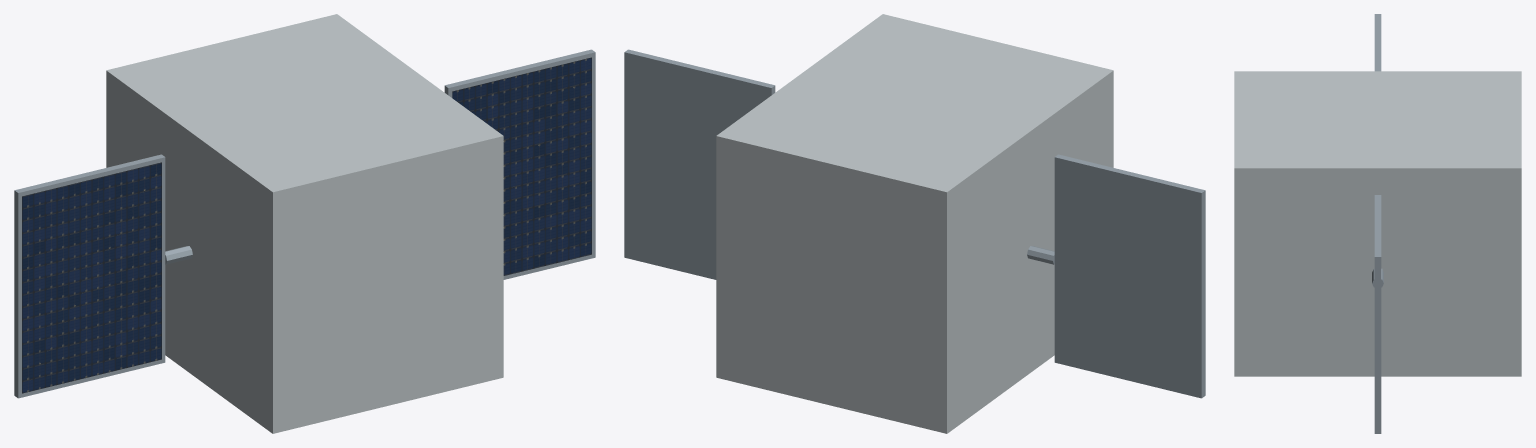
The model's file is ref-defiant-47502.glb.
The picture shows the model from 3 angles, left to right: view 1: azimuth 30°, elevation 25°; view 2: azimuth 150°, elevation 25°; view 3: azimuth 270°, elevation 25°; orthographic projection. The views are drawn at different scales.
Visible parts, largest first — view 1: Spacecraft body, Photovoltaic laminates (×2), Array frame (×2); view 2: Spacecraft body, Array frame (×2); view 3: Spacecraft body, Array frame (×2).
Part boxes in pixels (left/top/right/bottom): Spacecraft body: left=106, top=14, right=503, bottom=433; Photovoltaic laminates (×2): left=22, top=57, right=591, bottom=393; Array frame (×2): left=14, top=49, right=595, bottom=398; Spacecraft body: left=716, top=14, right=1113, bottom=433; Array frame (×2): left=624, top=49, right=1205, bottom=398; Spacecraft body: left=1234, top=71, right=1521, bottom=376; Array frame (×2): left=1374, top=14, right=1381, bottom=433.
Bounding box in the file's own units: 1 × 0.4 × 0.5.
Materials: 3 (1 with a texture image).
